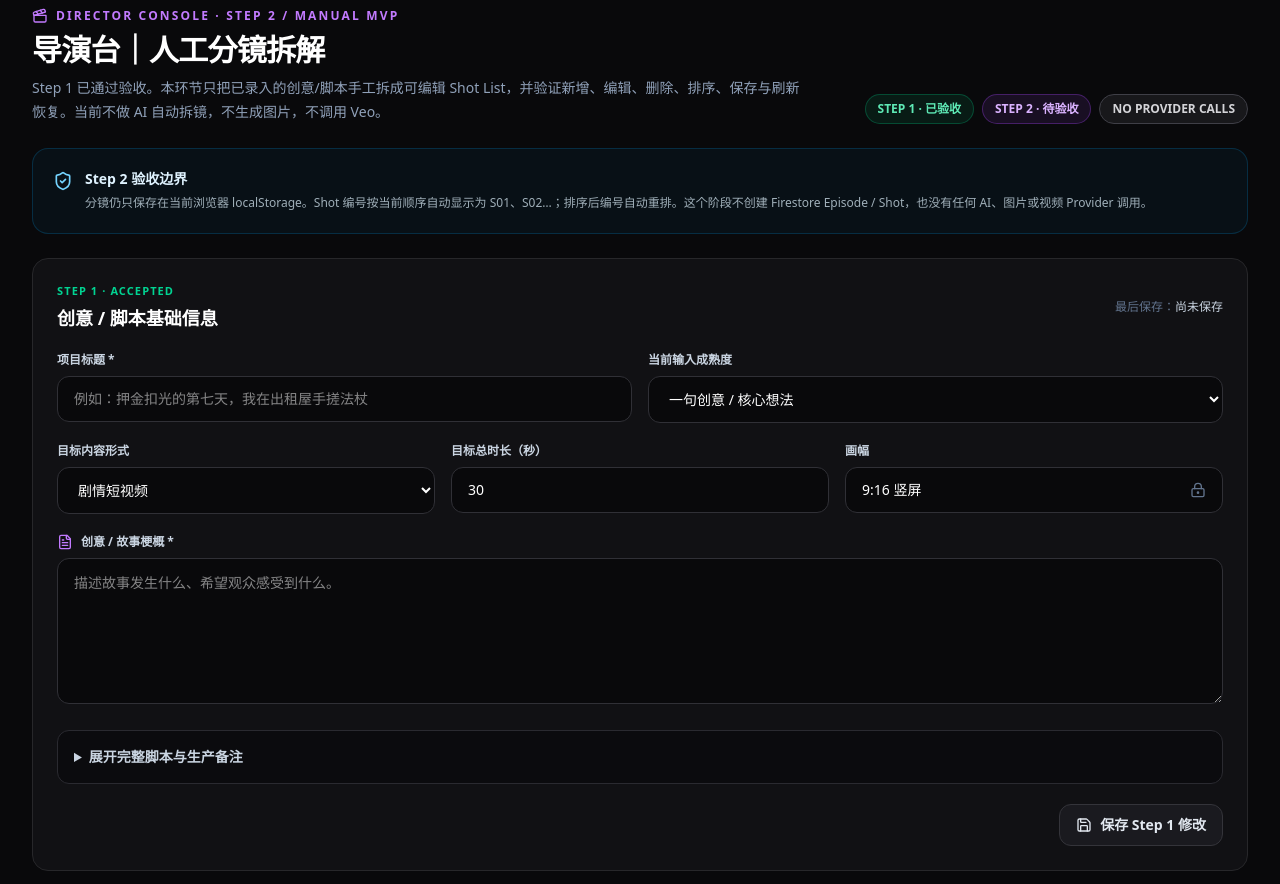
ScriptDirectorPage manual Step 1 regression inside Step 2 › still saves the accepted Step 1 creative brief locally without provider execution
Type "测试短片" into the field labelled "项目标题 *" at (344, 398), box [57,376,632,422]
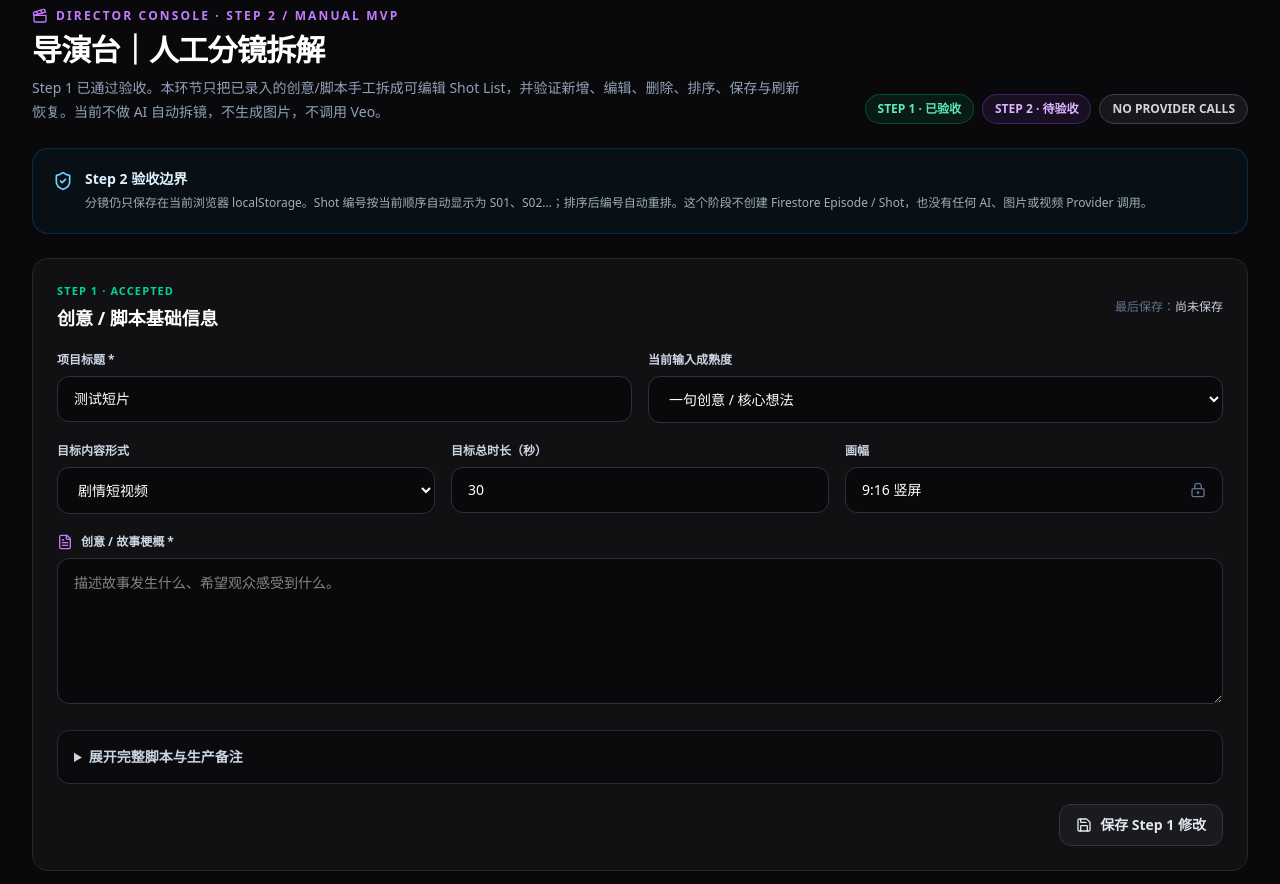
Type "一个人工录入、逐环节验收的创意。" into the text box labelled "创意 / 故事梗概 *" at (640, 630), box [57,558,1223,704]
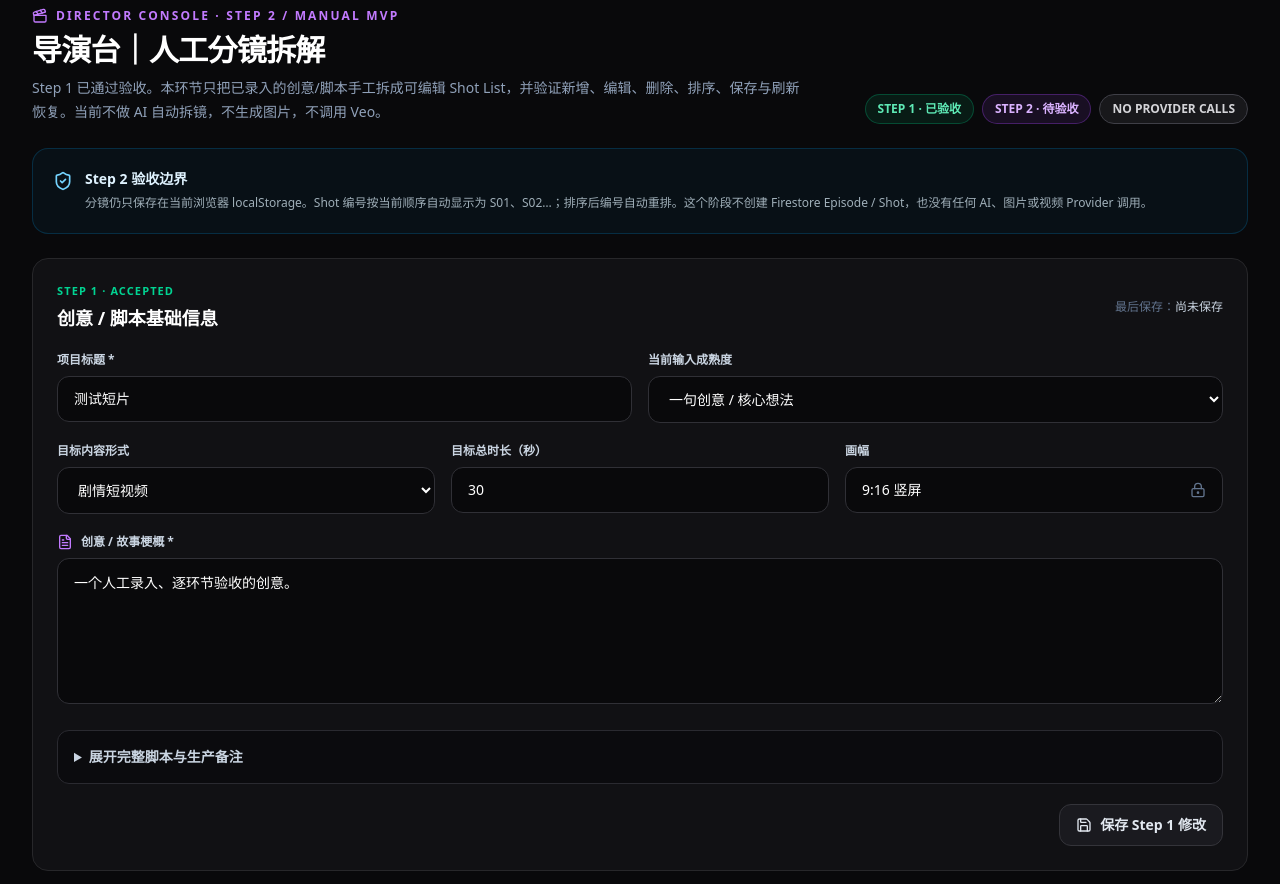
Click the button "保存 Step 1 修改" at (1141, 824), box [1059,804,1223,846]
(page scrolled)
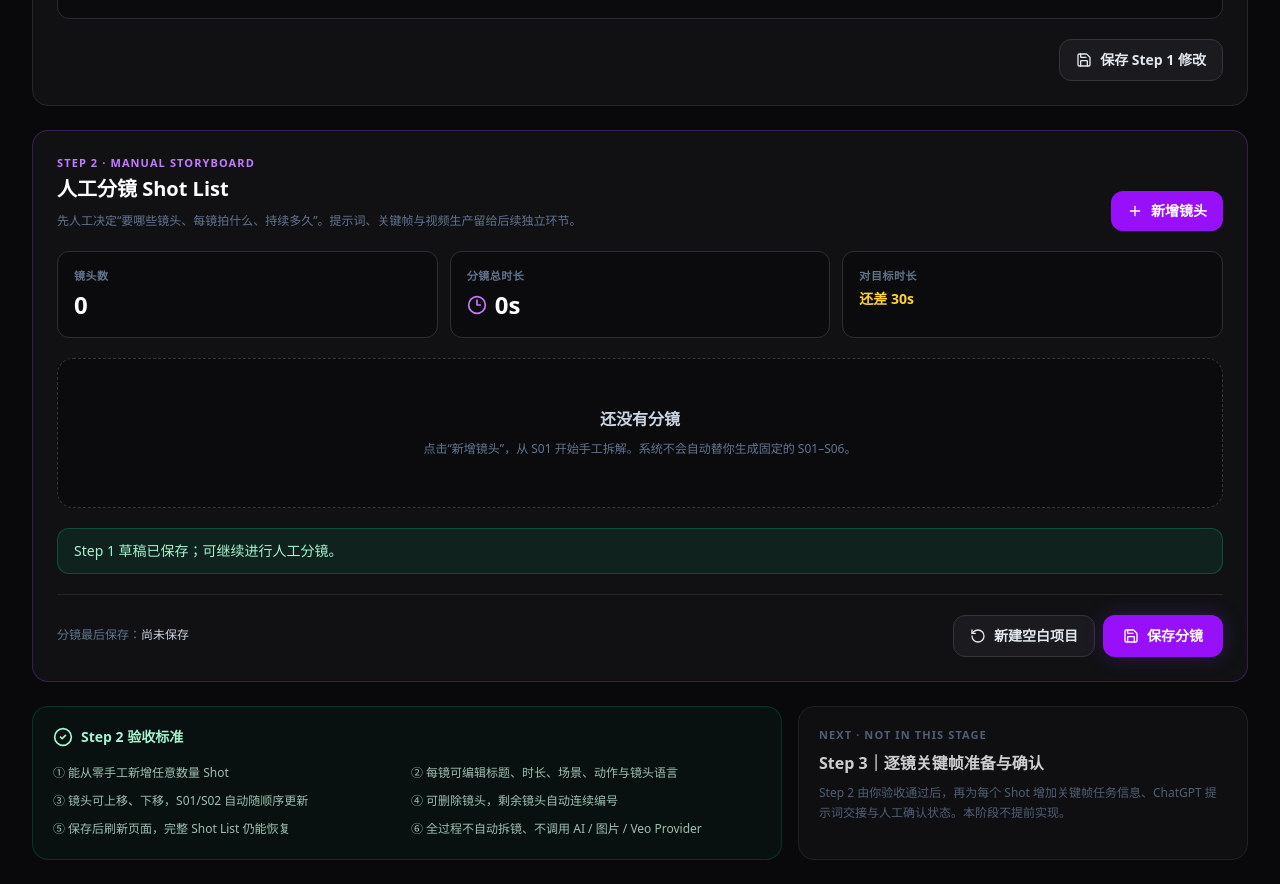
Check: the text "Step 1 草稿已保存；可继续进行人工分镜。" is shown, box [57,528,1223,574]
